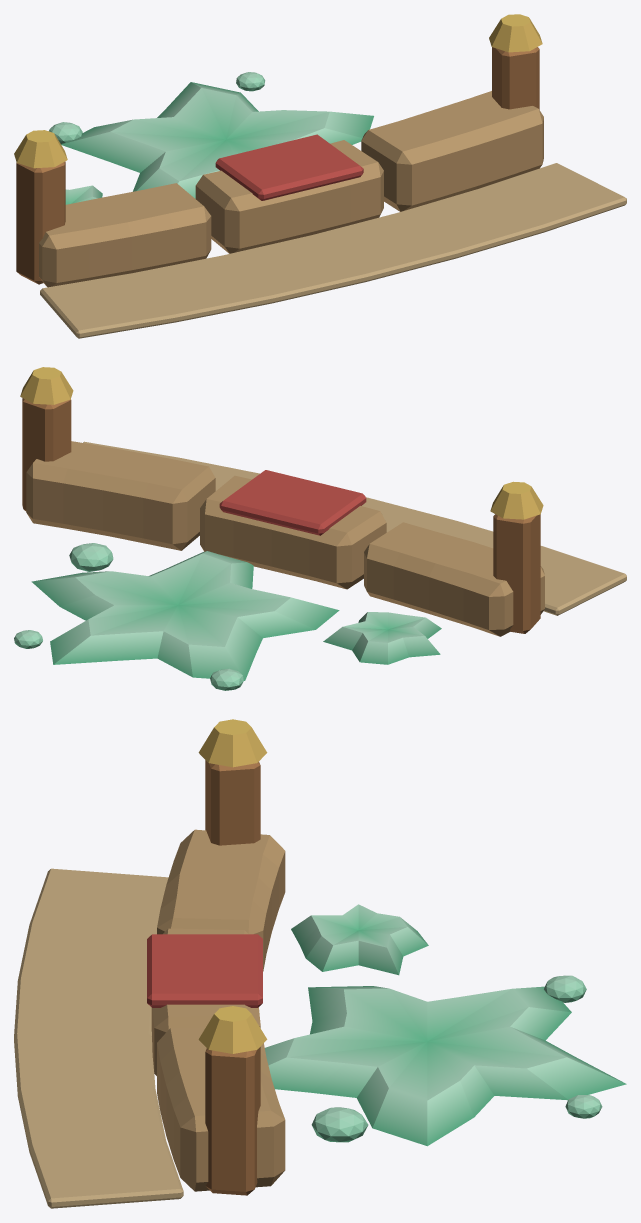
The model's file is ranch_landing_ring.fbx.
The picture shows the model from 3 angles, top to bottom: view 1: azimuth 30°, elevation 25°; view 2: azimuth 150°, elevation 25°; view 3: azimuth 270°, elevation 25°; orthographic projection. The views are drawn at different scales.
Visible parts, largest first — view 1: ranch_landing_ring; view 2: ranch_landing_ring; view 3: ranch_landing_ring.
Boxes of the visible parts, x1,y1,x2,y2 form: ranch_landing_ring: (14,14,626,338); ranch_landing_ring: (14,367,626,690); ranch_landing_ring: (14,719,626,1208).
Bounding box in the file's own units: 12.55 × 3.15 × 9.79.
